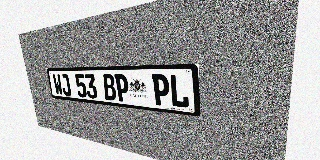3: (84, 74, 98, 99)
5: (75, 74, 87, 98)
B: (102, 74, 117, 101)
J: (60, 74, 72, 96)
L: (169, 74, 189, 108)
P: (151, 74, 170, 106), (114, 74, 130, 102)
W: (52, 74, 63, 95)
